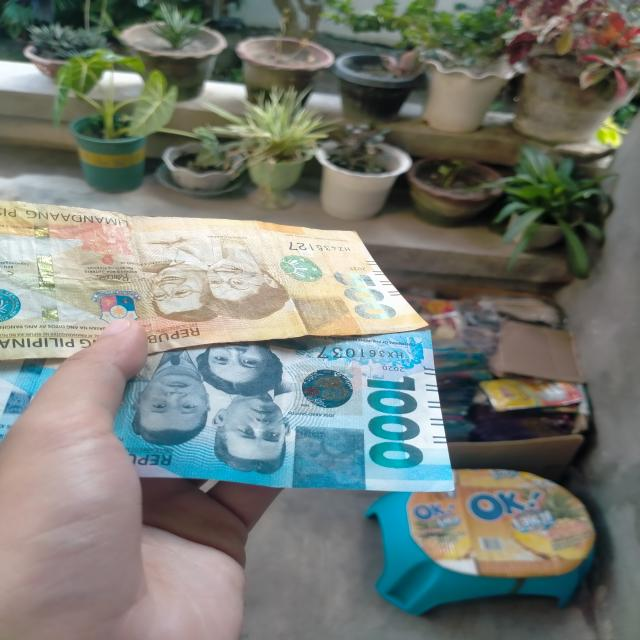concealed_value: (291, 424, 367, 492), (290, 295, 360, 336)
optically_variable_device: (291, 356, 364, 422), (262, 246, 332, 289)
security_thread: (25, 203, 62, 355), (6, 355, 38, 431)
value: (352, 370, 426, 474), (332, 268, 409, 322)
